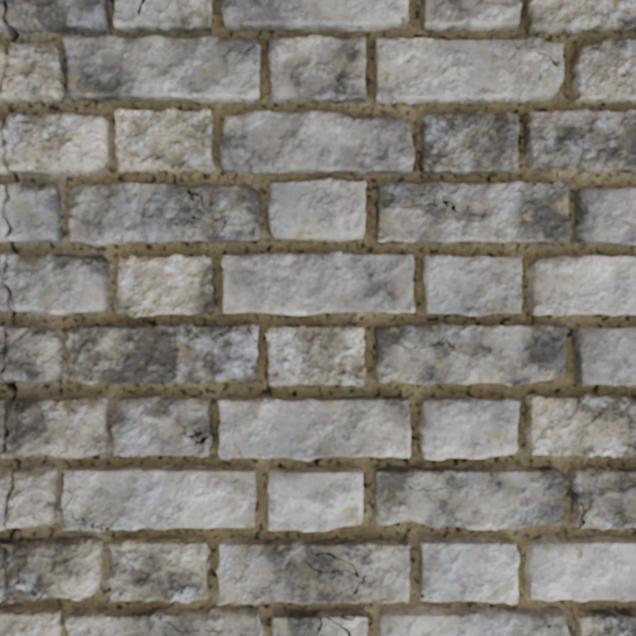brick: (65, 538, 409, 635), (63, 34, 260, 102), (220, 110, 413, 175), (62, 465, 256, 529), (374, 38, 563, 103), (218, 396, 409, 460), (222, 251, 414, 314), (374, 322, 566, 385), (376, 181, 569, 243), (374, 466, 562, 529), (69, 183, 260, 245), (66, 324, 257, 383), (523, 109, 635, 173), (524, 536, 635, 600), (524, 394, 635, 456), (419, 535, 518, 603), (108, 537, 209, 602), (268, 35, 365, 102), (527, 255, 635, 315), (418, 110, 518, 174), (115, 108, 213, 173), (115, 255, 214, 317), (112, 395, 212, 456), (419, 398, 518, 459), (269, 178, 365, 240), (265, 325, 364, 385), (423, 255, 521, 315), (268, 468, 362, 530), (221, 0, 407, 31), (378, 606, 569, 635), (568, 466, 635, 529), (571, 39, 635, 104), (572, 326, 635, 384), (525, 0, 635, 33), (574, 188, 635, 245), (114, 0, 213, 33), (421, 0, 521, 32), (272, 609, 366, 635), (0, 605, 61, 635), (572, 608, 635, 635), (62, 510, 98, 530), (319, 618, 346, 635), (250, 324, 258, 338)
broken_brick: (0, 111, 110, 177), (0, 395, 110, 459), (0, 251, 110, 315), (3, 535, 104, 603), (0, 41, 66, 103), (0, 324, 64, 384), (0, 465, 58, 531), (7, 0, 109, 34), (6, 182, 61, 242), (0, 0, 8, 33), (0, 215, 9, 243), (0, 551, 3, 602), (0, 164, 12, 175), (0, 537, 6, 543), (0, 186, 1, 205)
crack: (60, 486, 114, 531), (1, 457, 39, 515), (511, 39, 560, 82), (0, 183, 21, 259), (1, 0, 19, 71), (0, 364, 17, 437), (0, 526, 16, 599), (201, 324, 232, 360), (0, 135, 19, 184), (577, 493, 602, 528), (311, 615, 352, 635), (4, 284, 17, 326), (231, 423, 242, 456), (2, 100, 15, 123), (333, 74, 364, 82), (546, 624, 567, 635), (246, 324, 257, 343), (137, 0, 145, 15), (0, 81, 3, 97), (47, 519, 54, 524), (420, 592, 425, 599), (217, 454, 222, 460)
